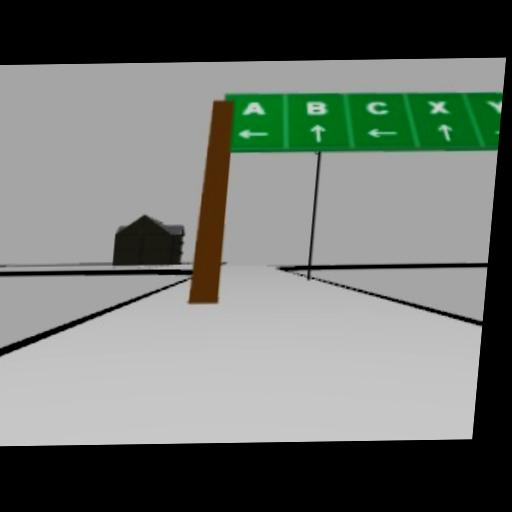A: (240, 100, 266, 116)
B: (305, 99, 329, 115)
C: (365, 99, 389, 114)
Left: (236, 127, 269, 139), (365, 127, 399, 137)
Right: (492, 128, 500, 134)
Straight: (435, 123, 454, 141), (308, 123, 326, 141)
X: (426, 100, 450, 113)
Y: (484, 98, 503, 114)
